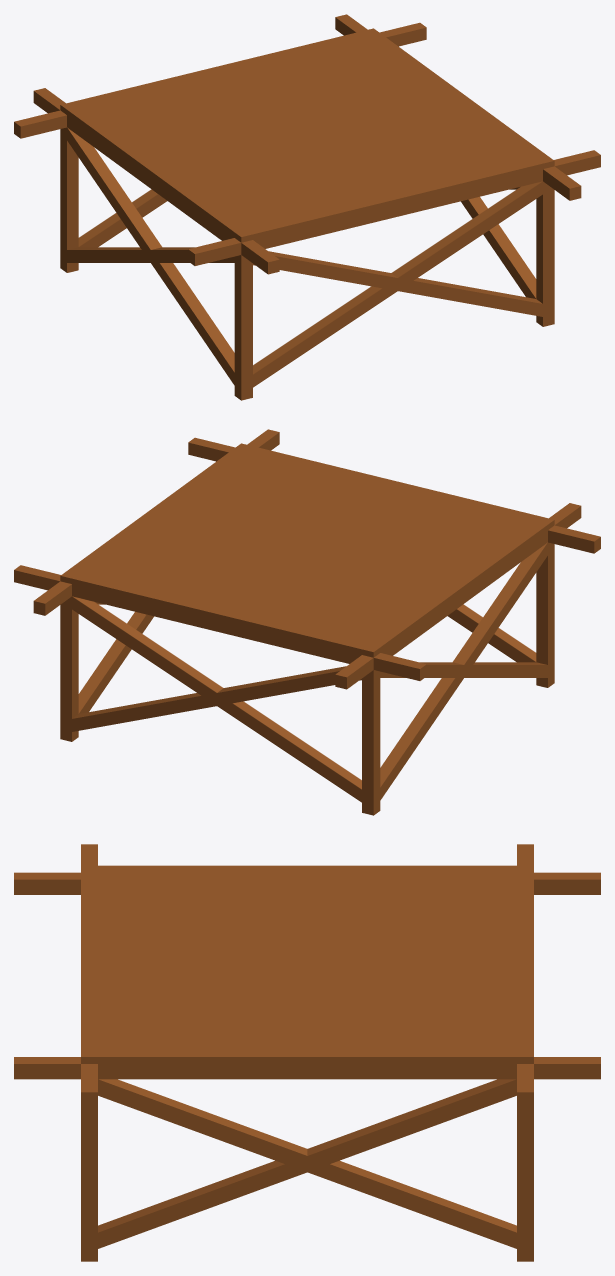
The model's file is Buildings_Wooden_Platform_01.fbx.
3 renders of one model, top to bottom at view 1: azimuth 30°, elevation 25°; view 2: azimuth 150°, elevation 25°; view 3: azimuth 270°, elevation 25°, orthographic. The views are drawn at different scales.
Parts seen in each view (by area): view 1: Model; view 2: Model; view 3: Model.
Part boxes in pixels (left/top/right/bottom): Model: left=14, top=14, right=600, bottom=400; Model: left=14, top=429, right=600, bottom=815; Model: left=14, top=844, right=600, bottom=1261.
Size of the model in its own units: 1517 by 583 by 1517.
